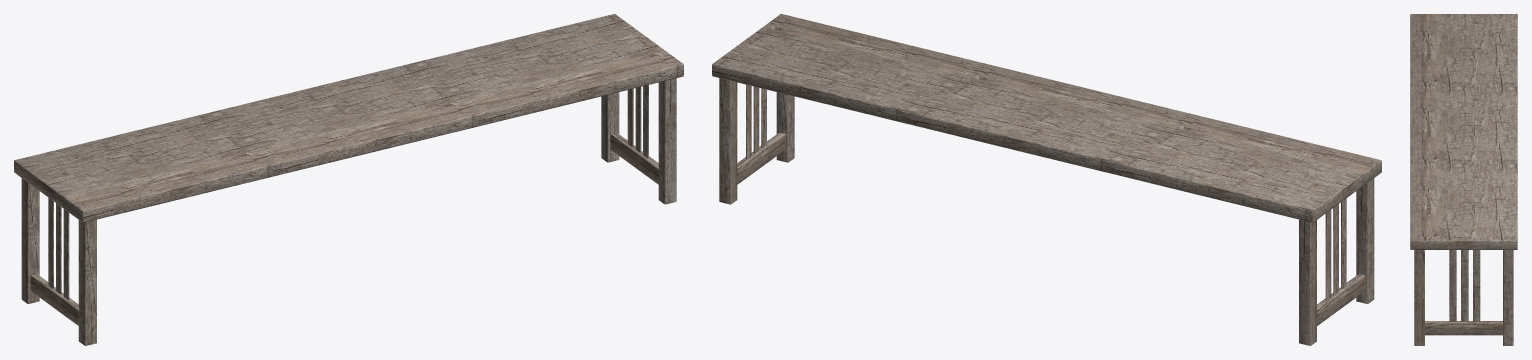
The model's file is BenchWithoutBackrest.FBX.
3 views of the same model, side by side, from view 1: azimuth 30°, elevation 25°; view 2: azimuth 150°, elevation 25°; view 3: azimuth 270°, elevation 25° (orthographic). The views are drawn at different scales.
Parts seen in each view (by area): view 1: BenchWithoutBackrest; view 2: BenchWithoutBackrest; view 3: BenchWithoutBackrest.
Part boxes in pixels (x1,y1,x2,y2): BenchWithoutBackrest: [14, 14, 683, 345]; BenchWithoutBackrest: [712, 14, 1381, 345]; BenchWithoutBackrest: [1410, 14, 1517, 345].
Size of the model in its own units: 984 by 217 by 197.
